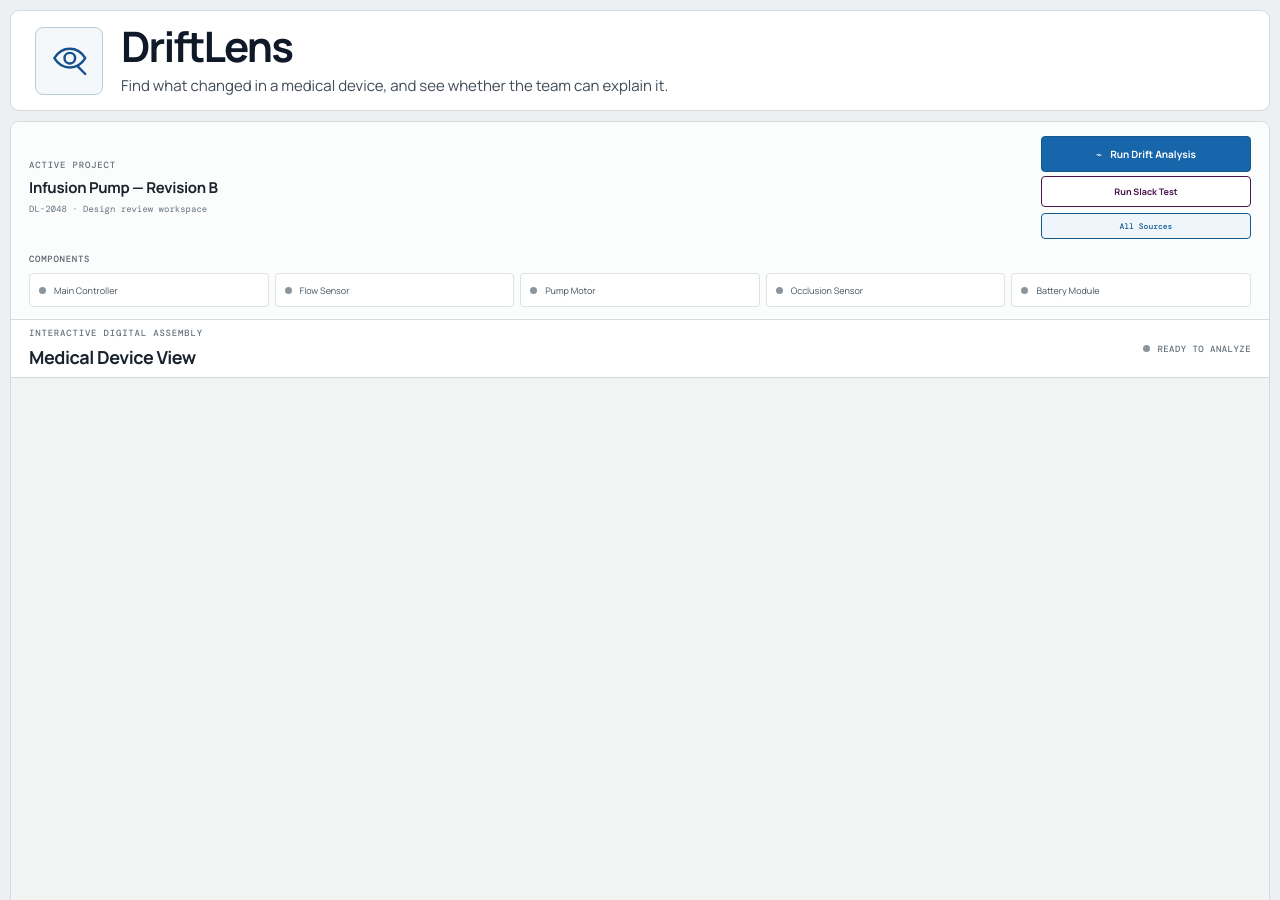
Scenario: ReviewWorkspace › reports analysis completion without opening component evidence
This screenshot has width=1280, height=900.
Click the button "⌁ Run Drift Analysis" at (1146,154), box [1041,136,1251,172]
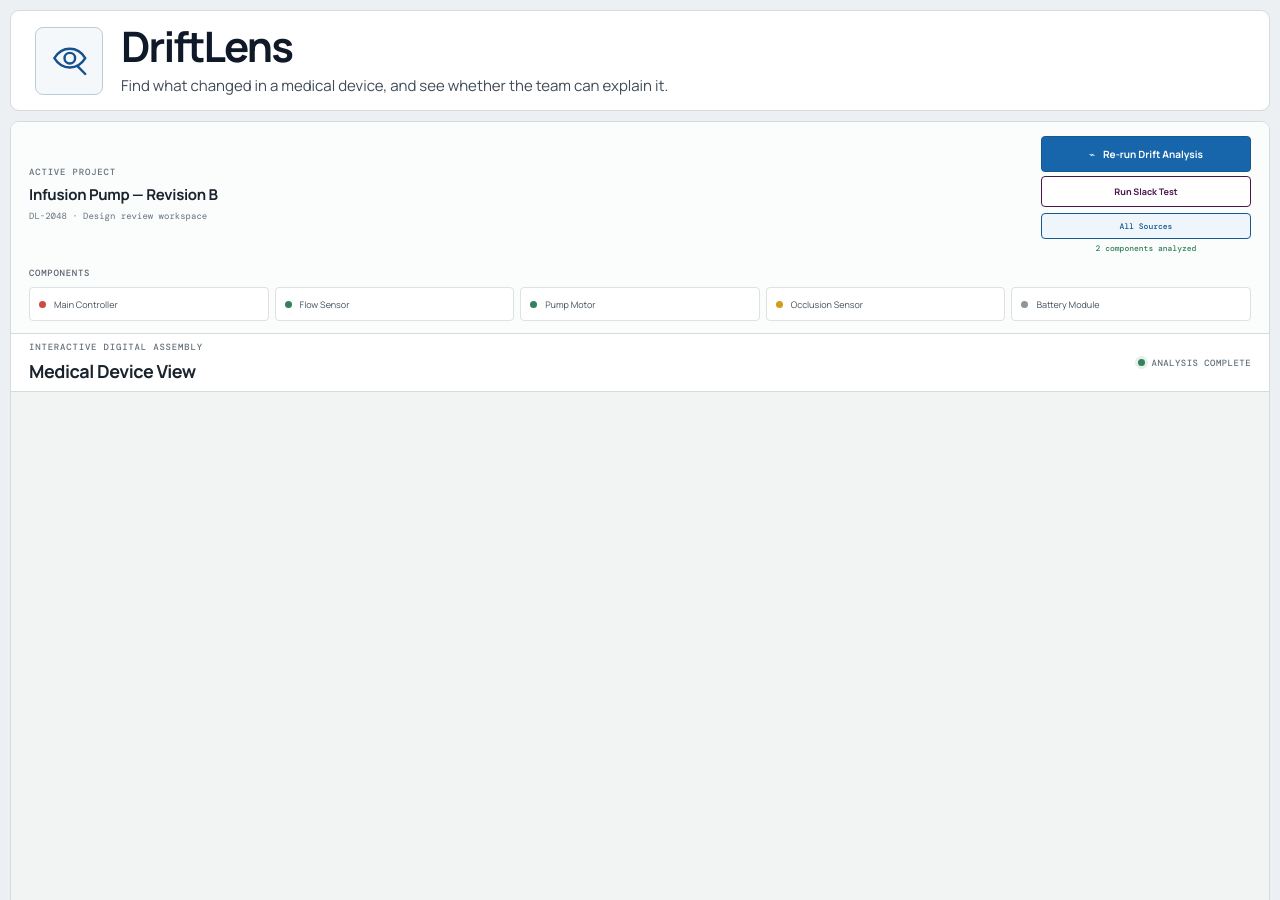
expect the message reads "2 components analyzed": met, box [1096,243,1196,253]
